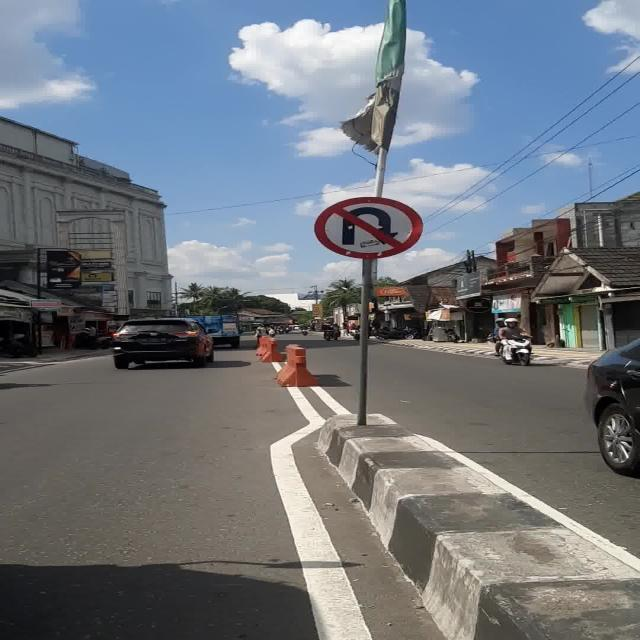Dilarang Putar Balik: (314, 197, 424, 260)
